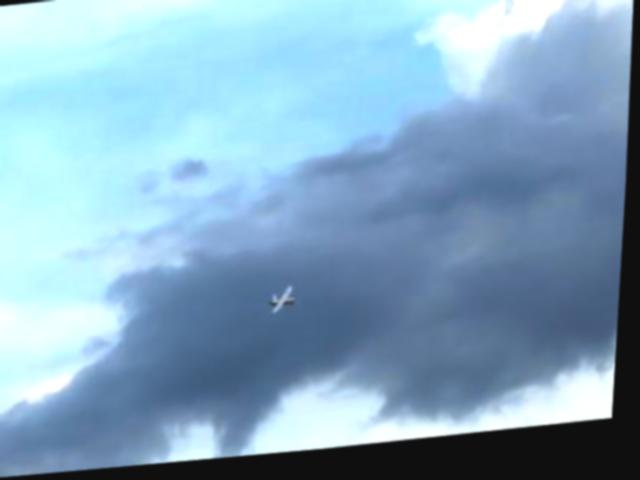uav: (267, 284, 304, 327)
